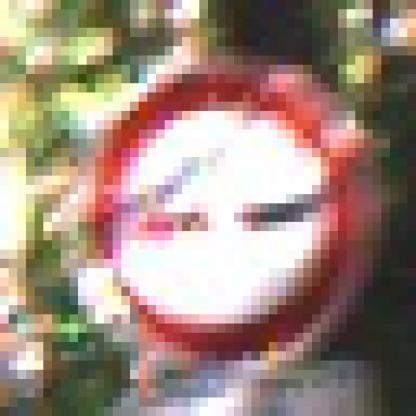No Overtaking: (53, 47, 374, 371)
